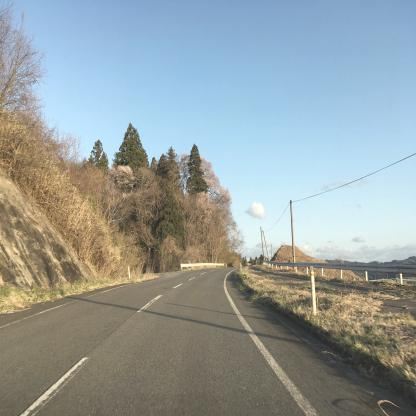Someiyoshino: (96, 159, 140, 191)
